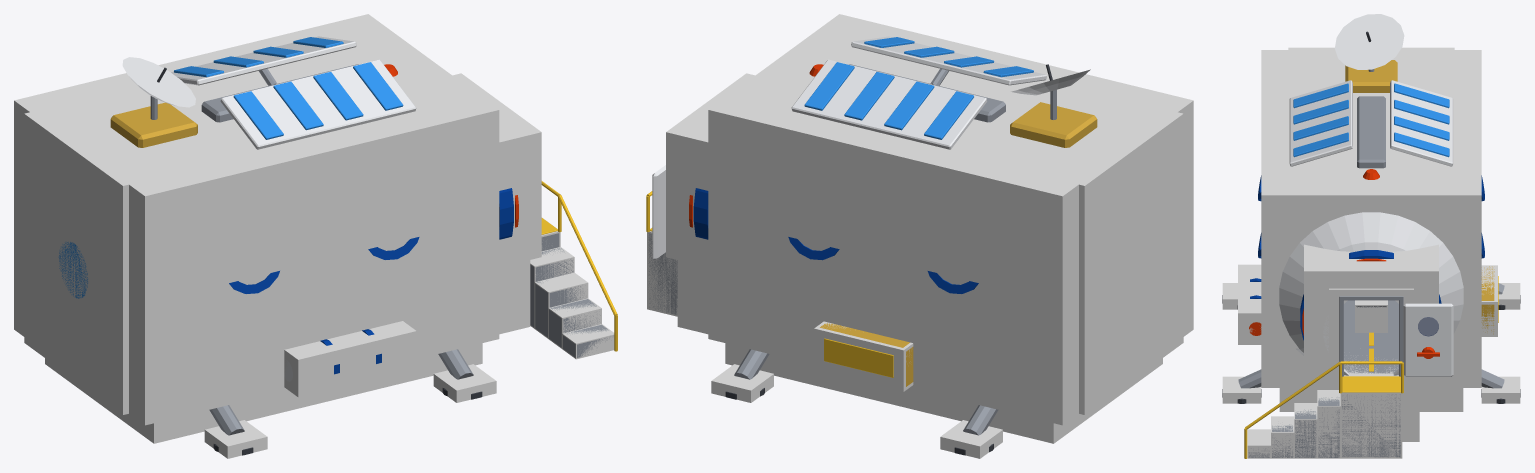
The model's file is Habitat.glb.
3 views of the same model, side by side, from view 1: azimuth 30°, elevation 25°; view 2: azimuth 150°, elevation 25°; view 3: azimuth 270°, elevation 25° (orthographic). The views are drawn at different scales.
Visible parts, largest first — view 1: COL_WallSouth, COL_WallBack, COL_Ceiling, ROOF_White, COL_WallNorth, COL_Tank, COL_HullBase, ROOF_Sky, COL_AirlockSouth, EXTERIOR_Grey, ROOF_Gold, COL_AirlockBase (+11 smaller); view 2: COL_WallNorth, COL_WallBack, COL_Ceiling, ROOF_White, COL_WallSouth, COL_HullBase, ROOF_Sky, COL_AirlockNorth, COL_ServicePack, ROOF_Gold, EXTERIOR_Grey, COL_AirlockBase (+9 smaller); view 3: COL_Ceiling, ROOF_White, COL_WallNorth, COL_WallSouth, EXTERIOR_White, EXTERIOR_Grey, ROOF_Sky, COL_Landing, COL_AirlockSouth, COL_HullBase, COL_AirlockTop, INTERIOR_Grey (+26 smaller).
Part boxes in pixels (x1,y1,x2,y2): COL_WallSouth: (129,98,499,425); COL_WallBack: (24,106,152,414); COL_Ceiling: (54,26,482,178); ROOF_White: (122,36,416,149); COL_WallNorth: (14,14,383,336); COL_Tank: (284,321,416,397); COL_HullBase: (45,343,482,443); ROOF_Sky: (174,37,403,139); COL_AirlockSouth: (499,121,541,267); EXTERIOR_Grey: (209,233,613,435); ROOF_Gold: (110,102,197,147); COL_AirlockBase: (499,260,530,334); COL_WallNorth: (708,98,1078,425); COL_WallBack: (1055,106,1183,414); COL_Ceiling: (725,26,1153,178); ROOF_White: (791,36,1090,149); COL_WallSouth: (823,14,1193,336); COL_HullBase: (725,343,1162,443); ROOF_Sky: (804,37,1033,139); COL_AirlockNorth: (666,121,708,267); COL_ServicePack: (814,321,913,391); ROOF_Gold: (1010,102,1097,147); EXTERIOR_Grey: (648,233,998,435); COL_AirlockBase: (677,260,708,334); COL_Ceiling: (1288,59,1454,214); ROOF_White: (1289,14,1453,250); COL_WallNorth: (1454,50,1481,387); COL_WallSouth: (1261,50,1288,387); EXTERIOR_White: (1279,242,1463,376); EXTERIOR_Grey: (1238,283,1504,457); ROOF_Sky: (1293,83,1449,157); COL_Landing: (1340,392,1402,458); COL_AirlockSouth: (1304,244,1328,376); COL_HullBase: (1279,348,1463,411); COL_AirlockTop: (1329,249,1413,288); INTERIOR_Grey: (1344,300,1398,373).
Size of the model in its own units: 15.43 by 10.27 by 10.11.
